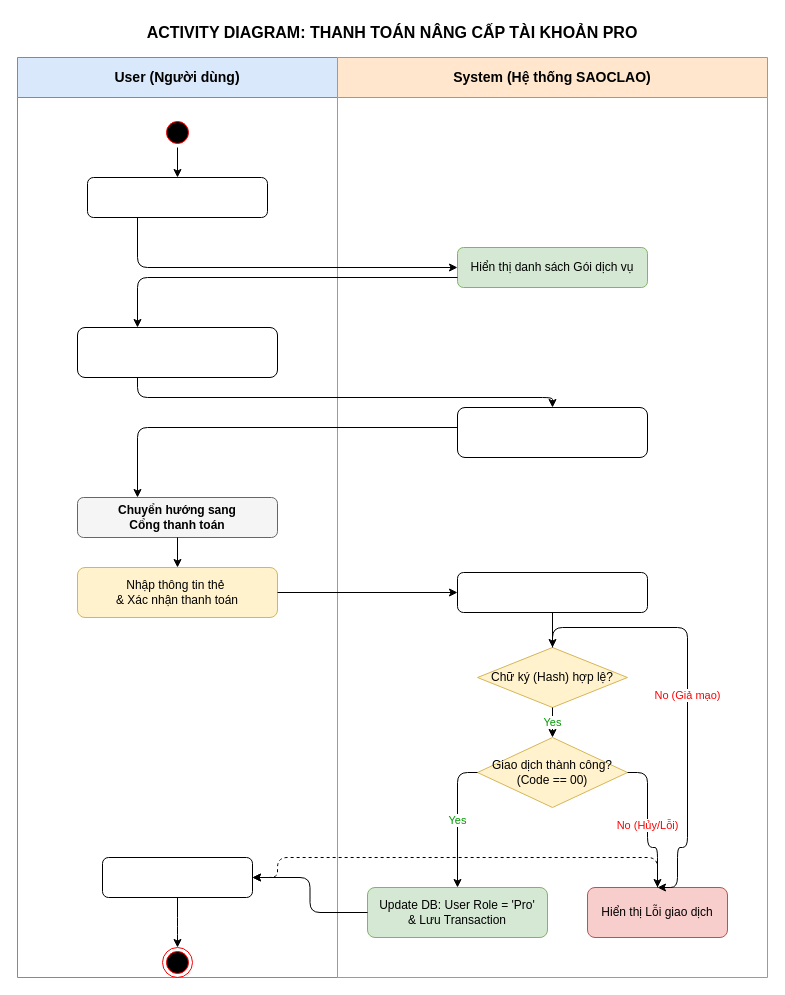
Some shapes in this 785 by 995 pixel diagram are drawn without their labels. Each missing label, with the centre of its shape:
"Chọn Gói & Phương thức" belongs at point (177, 352).
"Nhận Callback/Redirect (Từ Gateway)" belongs at point (552, 592).
"Nhận thông báo kết quả" belongs at point (177, 877).
"Truy cập trang Nâng cấp Pro" belongs at point (177, 197).
"Tạo Payment URL" belongs at point (552, 432).
